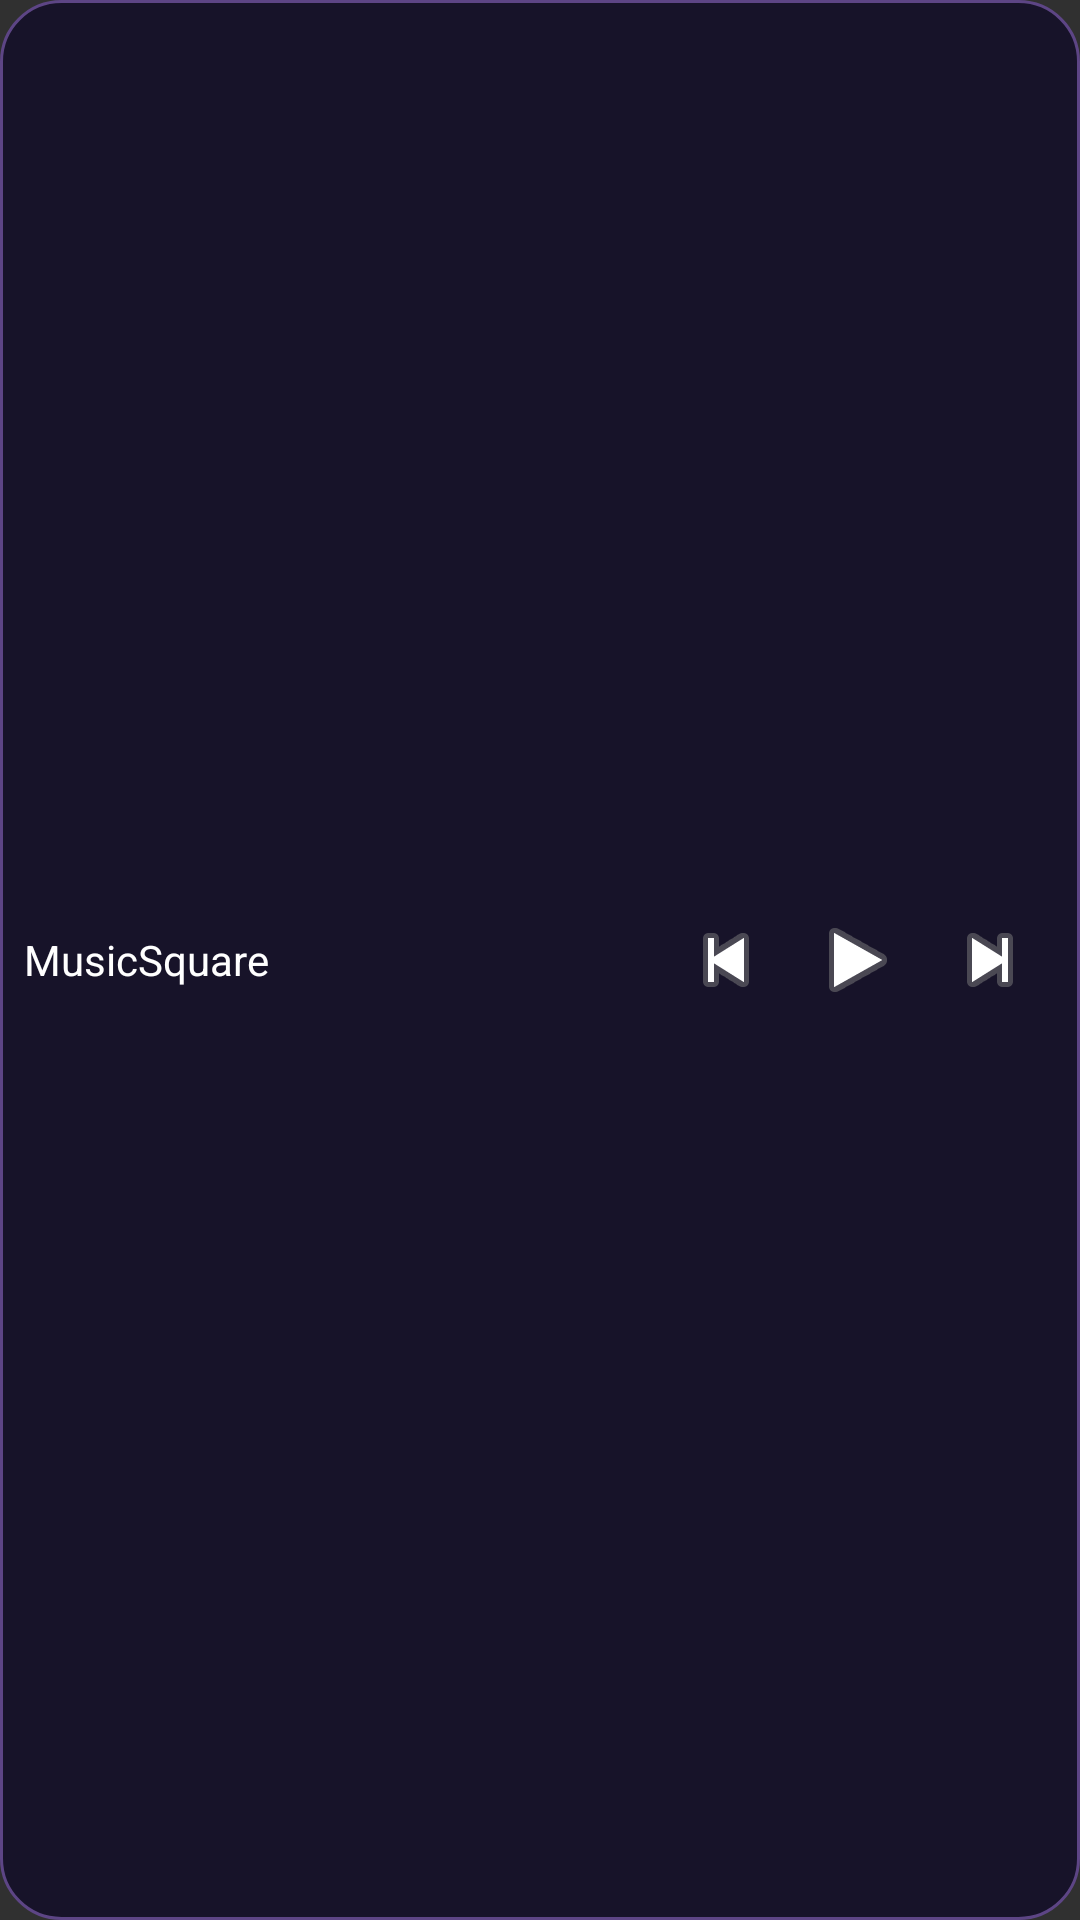

Icons on this 1080*1920 Android screen, each with the point to tap as (x=x, y=y):
Next: (x=990, y=960)
Play or pause: (x=858, y=960)
Previous: (x=726, y=960)
